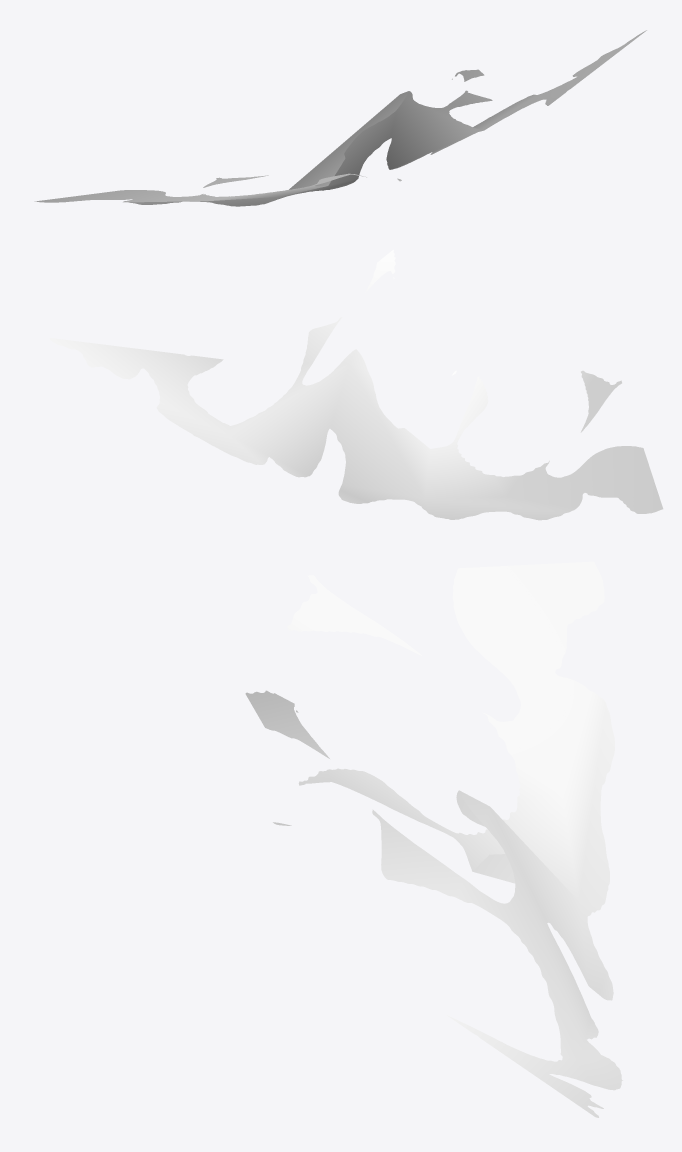
The model's file is flame_lick_02.glb.
3 renders of one model, top to bottom at view 1: azimuth 30°, elevation 25°; view 2: azimuth 150°, elevation 25°; view 3: azimuth 270°, elevation 25°, orthographic. The views are drawn at different scales.
Parts seen in each view (by area): view 1: castle_fire.flame_lick_02-MeshNodes["flame_lick_02"]; view 2: castle_fire.flame_lick_02-MeshNodes["flame_lick_02"]; view 3: castle_fire.flame_lick_02-MeshNodes["flame_lick_02"].
Part boxes in pixels (x1,y1,x2,y2): castle_fire.flame_lick_02-MeshNodes["flame_lick_02"]: [34, 30, 646, 206]; castle_fire.flame_lick_02-MeshNodes["flame_lick_02"]: [49, 250, 663, 520]; castle_fire.flame_lick_02-MeshNodes["flame_lick_02"]: [245, 561, 622, 1117].
Size of the model in its own units: 3.25 by 0.8879 by 1.23.
1 material, 1 textured.
